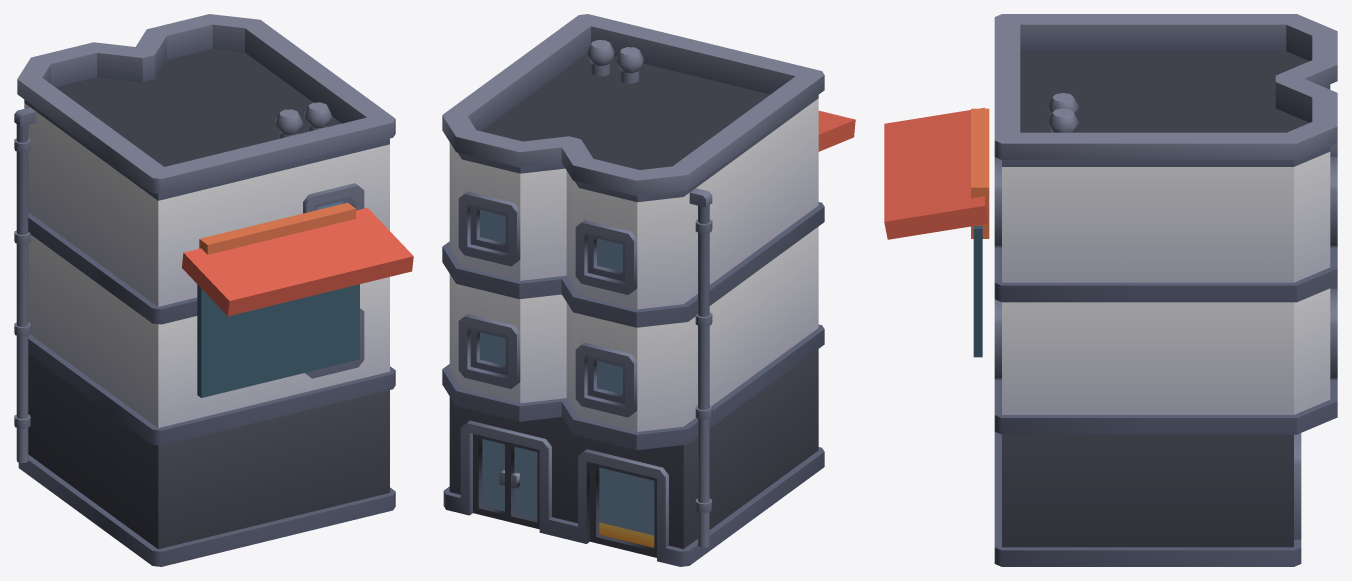
File: corner-shop-awning.glb
3 renders of one model, left to right at view 1: azimuth 30°, elevation 25°; view 2: azimuth 150°, elevation 25°; view 3: azimuth 270°, elevation 25°, orthographic. The views are drawn at different scales.
Parts seen in each view (by area): view 1: building-a, Striped_Awning, Storefront_Glass, Storefront_Sign; view 2: building-a, Striped_Awning; view 3: building-a, Striped_Awning, Storefront_Sign, Storefront_Glass.
Part boxes in pixels (x1,y1,x2,y2): building-a: (14,14,395,566); Striped_Awning: (182,208,413,316); Storefront_Glass: (197,284,359,397); Storefront_Sign: (199,202,355,254); building-a: (442,14,824,566); Striped_Awning: (818,110,855,151); building-a: (994,14,1337,566); Striped_Awning: (884,107,988,239); Storefront_Sign: (971,108,989,238); Storefront_Glass: (973,226,982,357).
Bounding box in the file's own units: 0.8836 × 1.29 × 1.24.
5 materials, 1 textured.
